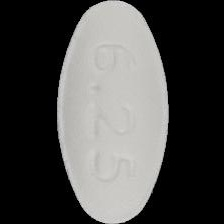60505-2607: (0, 0, 224, 224)
